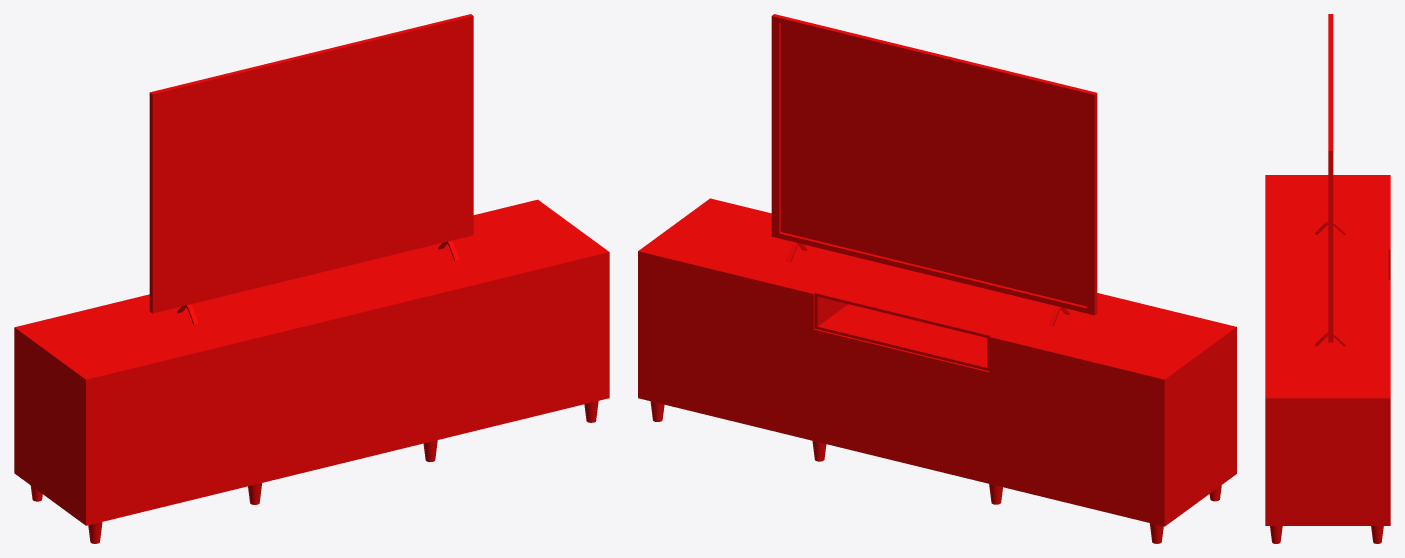
File: tv table.fbx
3 renders of one model, left to right at view 1: azimuth 30°, elevation 25°; view 2: azimuth 150°, elevation 25°; view 3: azimuth 270°, elevation 25°, orthographic. The views are drawn at different scales.
Parts seen in each view (by area): view 1: Object005; view 2: Object005; view 3: Object005.
Part boxes in pixels (x1,y1,x2,y2): Object005: (14, 14, 609, 543); Object005: (638, 14, 1236, 543); Object005: (1265, 14, 1390, 543).
Size of the model in its own units: 180 by 133 by 42.7.
